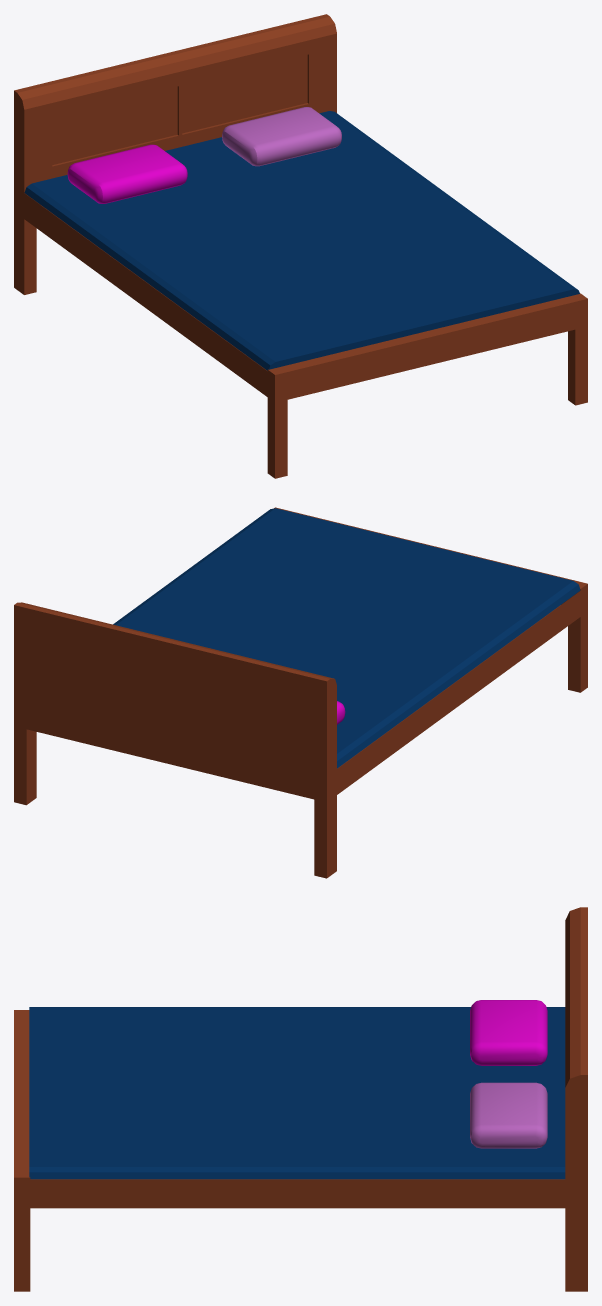
The model's file is normal_bed.glb.
3 views of the same model, one above another, from view 1: azimuth 30°, elevation 25°; view 2: azimuth 150°, elevation 25°; view 3: azimuth 270°, elevation 25° (orthographic). The views are drawn at different scales.
Parts seen in each view (by area): view 1: Cube.001, Cube, Cube.002, Cube.003; view 2: Cube.001, Cube; view 3: Cube.001, Cube, Cube.003, Cube.002.
Part boxes in pixels (<box>): Cube.001: <box>24,111,579,370</box>; Cube: <box>14,14,587,478</box>; Cube.002: <box>67,144,187,203</box>; Cube.003: <box>222,107,341,166</box>; Cube.001: <box>113,508,580,768</box>; Cube: <box>14,507,587,878</box>; Cube.001: <box>29,1007,565,1179</box>; Cube: <box>14,907,587,1291</box>; Cube.003: <box>470,1082,547,1148</box>; Cube.002: <box>470,1000,547,1065</box>.
Bounding box in the file's own units: 1.26 × 0.762 × 1.83.
